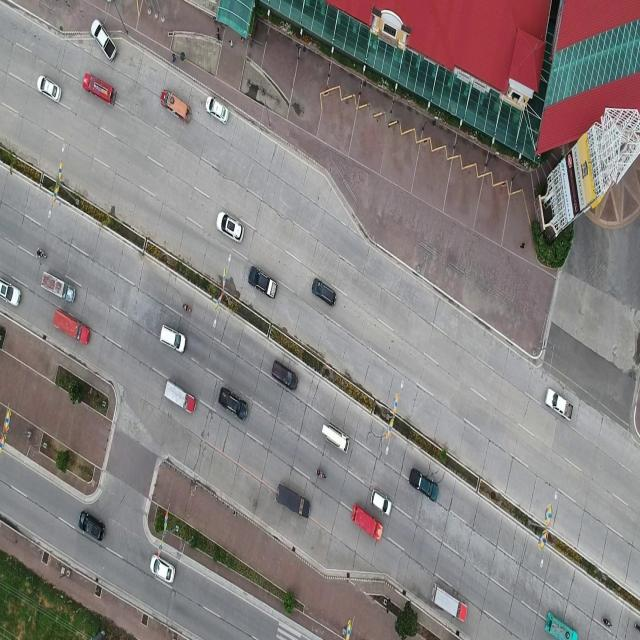Car: (216, 210, 244, 243), (78, 510, 105, 541), (160, 326, 187, 354), (312, 277, 336, 308), (150, 554, 176, 582), (0, 276, 22, 308), (37, 77, 62, 103), (205, 97, 229, 123), (370, 488, 392, 516)
Cycle: (36, 249, 47, 259), (316, 469, 326, 479), (182, 303, 192, 313)
Truck: (432, 582, 468, 623), (53, 308, 90, 345), (82, 72, 117, 108), (352, 503, 383, 542), (41, 270, 76, 303), (409, 465, 439, 503), (164, 380, 197, 414), (92, 20, 117, 62), (219, 386, 249, 421), (248, 266, 278, 301), (322, 419, 351, 455), (545, 389, 574, 421)
Van: (276, 485, 311, 519), (160, 89, 192, 124), (545, 612, 578, 640), (272, 360, 298, 390)
